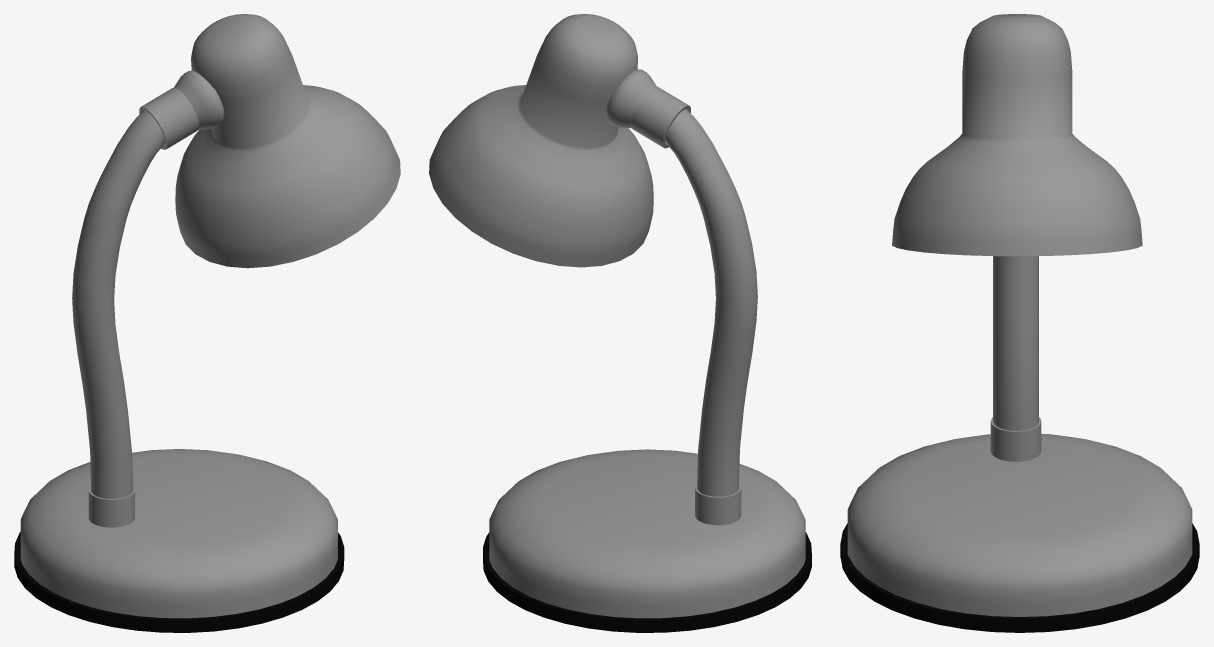
Rendered from Prop_DeskLamp_Grey.FBX.
3 renders of one model, left to right at view 1: azimuth 30°, elevation 25°; view 2: azimuth 150°, elevation 25°; view 3: azimuth 270°, elevation 25°, orthographic. The views are drawn at different scales.
Parts seen in each view (by area): view 1: Baytek_Mall_Lamp; view 2: Baytek_Mall_Lamp; view 3: Baytek_Mall_Lamp.
Boxes of the visible parts, x1,y1,x2,y2 form: Baytek_Mall_Lamp: [14, 14, 400, 632]; Baytek_Mall_Lamp: [429, 14, 811, 632]; Baytek_Mall_Lamp: [840, 14, 1199, 632].
Size of the model in its own units: 27.49 by 39.97 by 22.65.
